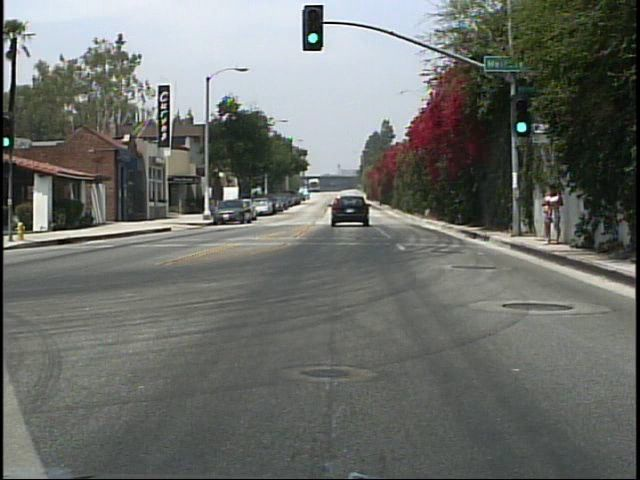person: (540, 183, 568, 249)
